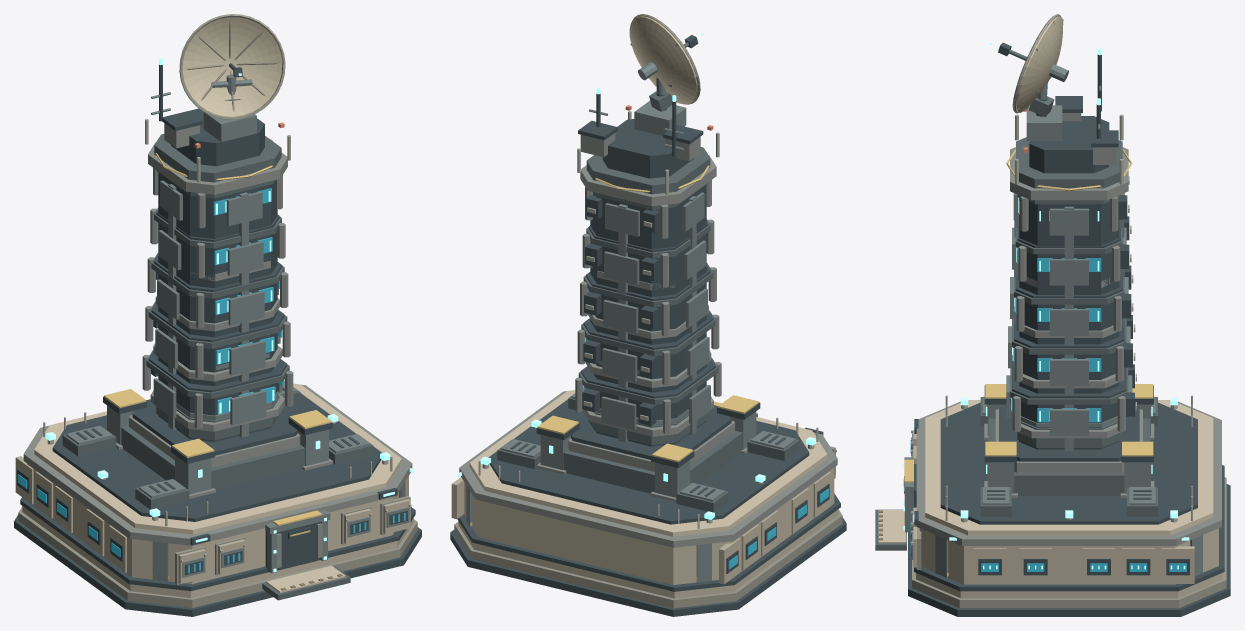
File: sandforge_bastion_mk2_aktiv.glb
The picture shows the model from 3 angles, left to right: view 1: azimuth 30°, elevation 25°; view 2: azimuth 150°, elevation 25°; view 3: azimuth 270°, elevation 25°; orthographic projection. The views are drawn at different scales.
Visible parts, largest first — view 1: Bastion_Static_black, Bastion_Static_steel, Bastion_Static_armor, Bastion_Static_frame, Bastion_Static_concrete, Bastion_Static_sandplate, Radar_Dish_Pivot_dish, Bastion_Static_edge, Bastion_Static_glass, Bastion_Static_yellow, Radar_Dish_Pivot_edge, Bastion_Static_light (+2 smaller); view 2: Bastion_Static_black, Bastion_Static_armor, Bastion_Static_concrete, Bastion_Static_steel, Bastion_Static_frame, Bastion_Static_sandplate, Bastion_Static_edge, Radar_Dish_Pivot_dish, Bastion_Static_yellow, Bastion_Static_bolt, Bastion_Static_light; view 3: Bastion_Static_black, Bastion_Static_armor, Bastion_Static_steel, Bastion_Static_concrete, Bastion_Static_frame, Bastion_Static_sandplate, Bastion_Static_edge, Bastion_Static_glass, Bastion_Static_yellow, Radar_Dish_Pivot_dish, Bastion_Static_light, Bastion_Static_bolt.
Boxes of the visible parts, x1,y1,x2,y2 form: Bastion_Static_black: (14,65,421,616); Bastion_Static_steel: (66,92,409,581); Bastion_Static_armor: (23,123,412,545); Bastion_Static_frame: (62,134,373,600); Bastion_Static_concrete: (15,456,413,597); Bastion_Static_sandplate: (34,383,401,592); Radar_Dish_Pivot_dish: (182,17,282,116); Bastion_Static_edge: (18,496,417,607); Bastion_Static_glass: (17,188,405,573); Bastion_Static_yellow: (104,138,331,579); Radar_Dish_Pivot_edge: (179,14,285,119); Bastion_Static_light: (45,58,414,572); Bastion_Static_black: (450,92,846,616); Bastion_Static_armor: (459,133,837,547); Bastion_Static_concrete: (451,446,838,598); Bastion_Static_steel: (466,100,796,582); Bastion_Static_frame: (497,147,799,512); Bastion_Static_sandplate: (469,390,827,536); Bastion_Static_edge: (454,447,842,608); Radar_Dish_Pivot_dish: (629,16,697,104); Bastion_Static_yellow: (470,165,759,580); Bastion_Static_bolt: (478,111,836,528); Bastion_Static_light: (457,87,816,519); Bastion_Static_black: (904,54,1230,616); Bastion_Static_armor: (916,113,1221,545); Bastion_Static_steel: (904,85,1202,577); Bastion_Static_concrete: (913,430,1222,598); Bastion_Static_frame: (875,137,1157,550); Bastion_Static_sandplate: (878,400,1213,543); Bastion_Static_edge: (912,477,1226,608); Bastion_Static_glass: (910,198,1186,571); Bastion_Static_yellow: (903,149,1203,576); Radar_Dish_Pivot_dish: (1015,16,1063,112); Bastion_Static_light: (903,48,1189,569); Bastion_Static_bolt: (911,114,1192,544).
Size of the model in its own units: 17.4 by 29.4 by 17.95.
